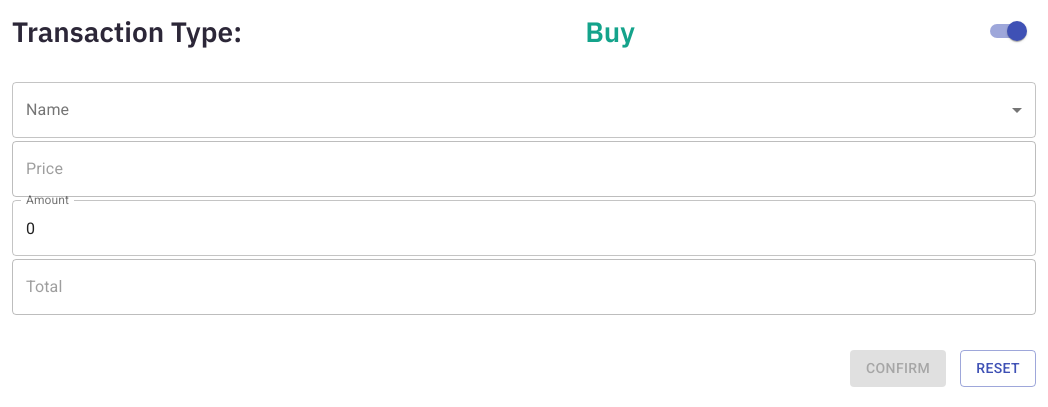
Test: Transaction › when choose currency type › and when change amount value › and when change currenty type again › should update price and total values
Replace the text in the field with test id "currencyName" with "BTC" at (524, 110), box [12,82,1036,138]
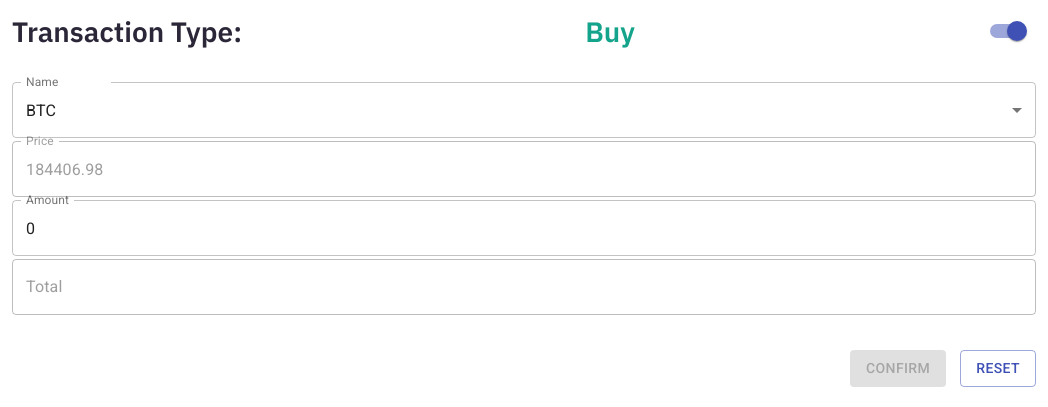
Replace the text in the number field labelled "Amount" with "15.3" at (524, 228), box [12,200,1036,256]
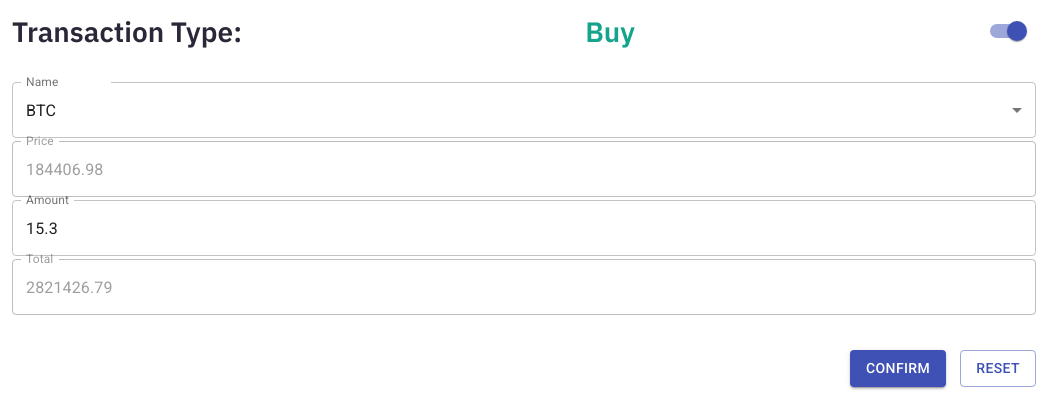
Replace the text in the field with test id "currencyName" with "ETH" at (524, 110), box [12,82,1036,138]
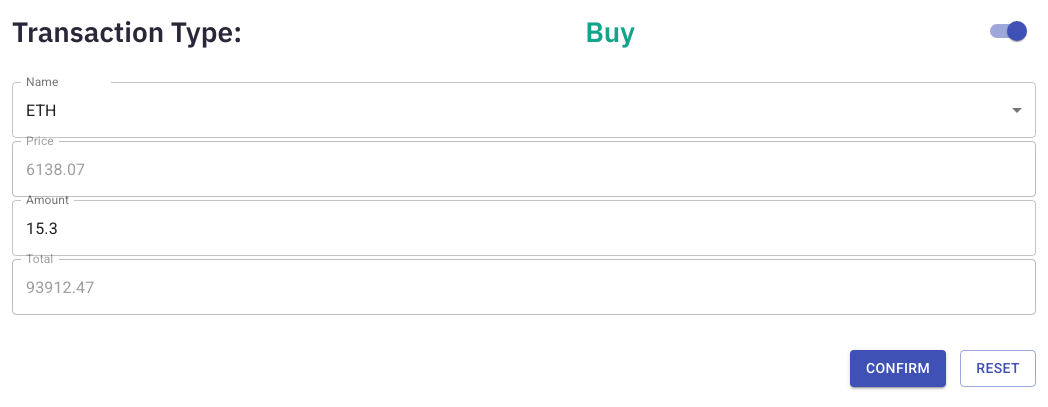
Check: the field labelled "Price" holds "6138.07", box [12,141,1036,197]
Check: the field labelled "Total" holds "93912.47", box [12,259,1036,315]
